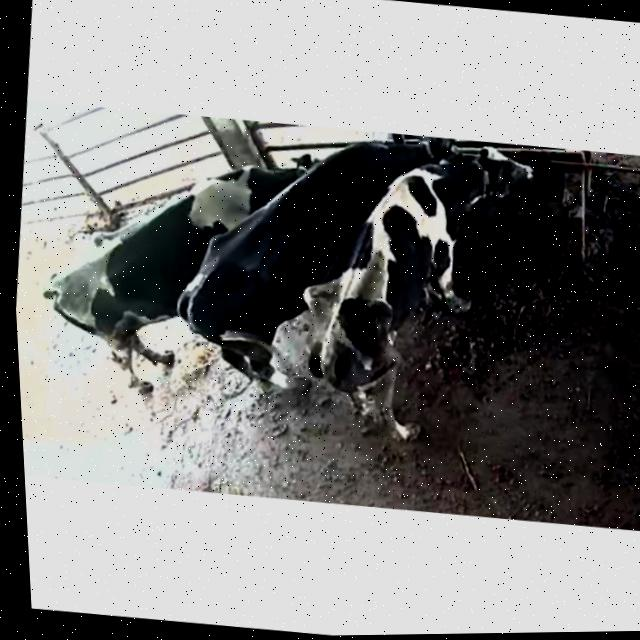drink: (432, 138, 552, 219), (336, 126, 462, 198)
